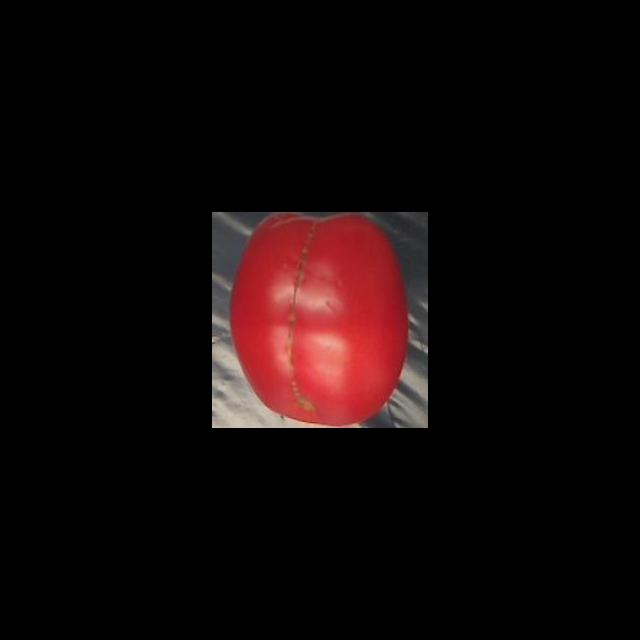tomato: (227, 212, 414, 428)
